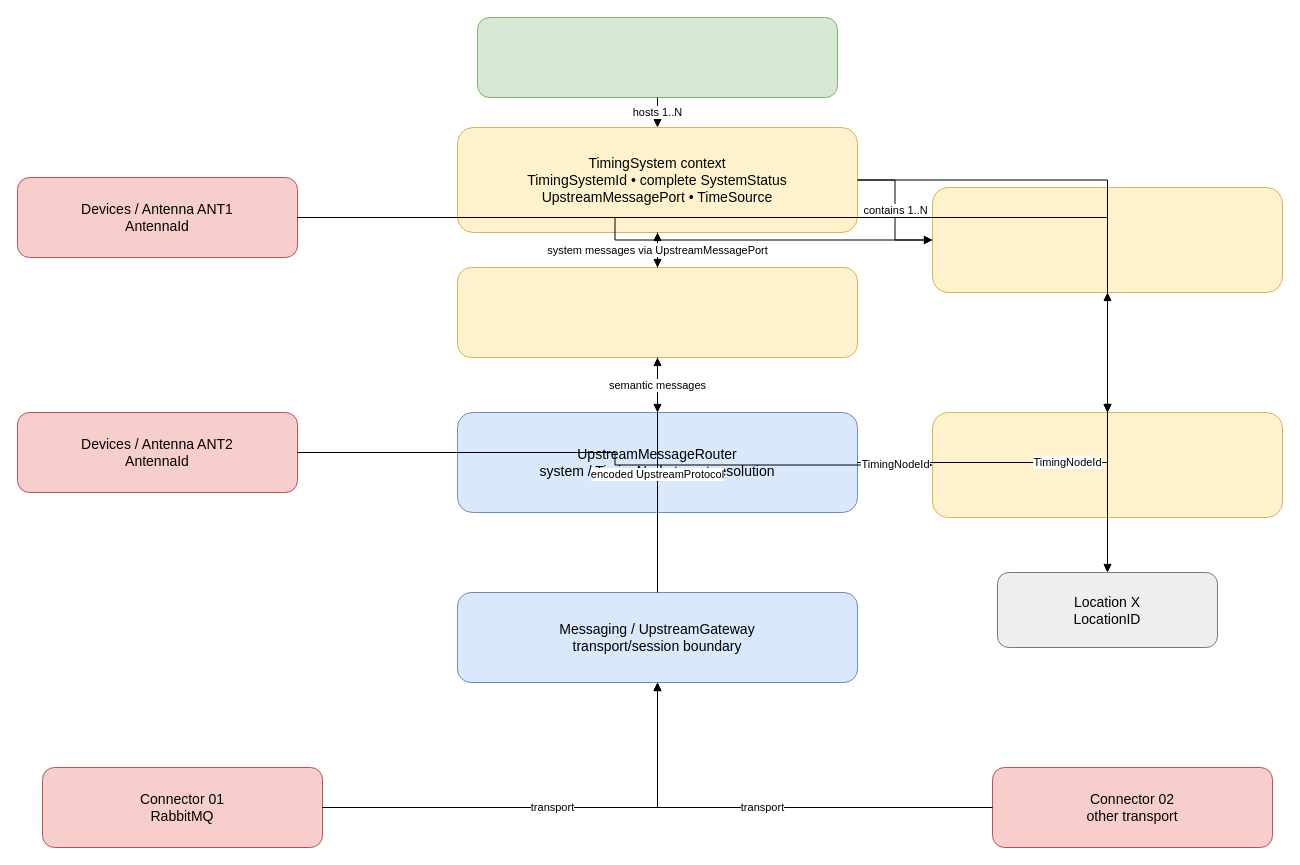
Image size: 1300x865. Some labels were removed from this diagram. The box of each missing label's shape, as (x1, y1, x2, y2) in pixels:
TimingApplication ApplicationId: (476, 16, 838, 98)
TimingNode timing-node-A TimingNodeId UpstreamMessagePort: (932, 186, 1282, 292)
TimingNode timing-node-B TimingNodeId UpstreamMessagePort: (932, 412, 1282, 518)
UpstreamProtocol TimingData • sync • ping/pong: (456, 266, 858, 358)
